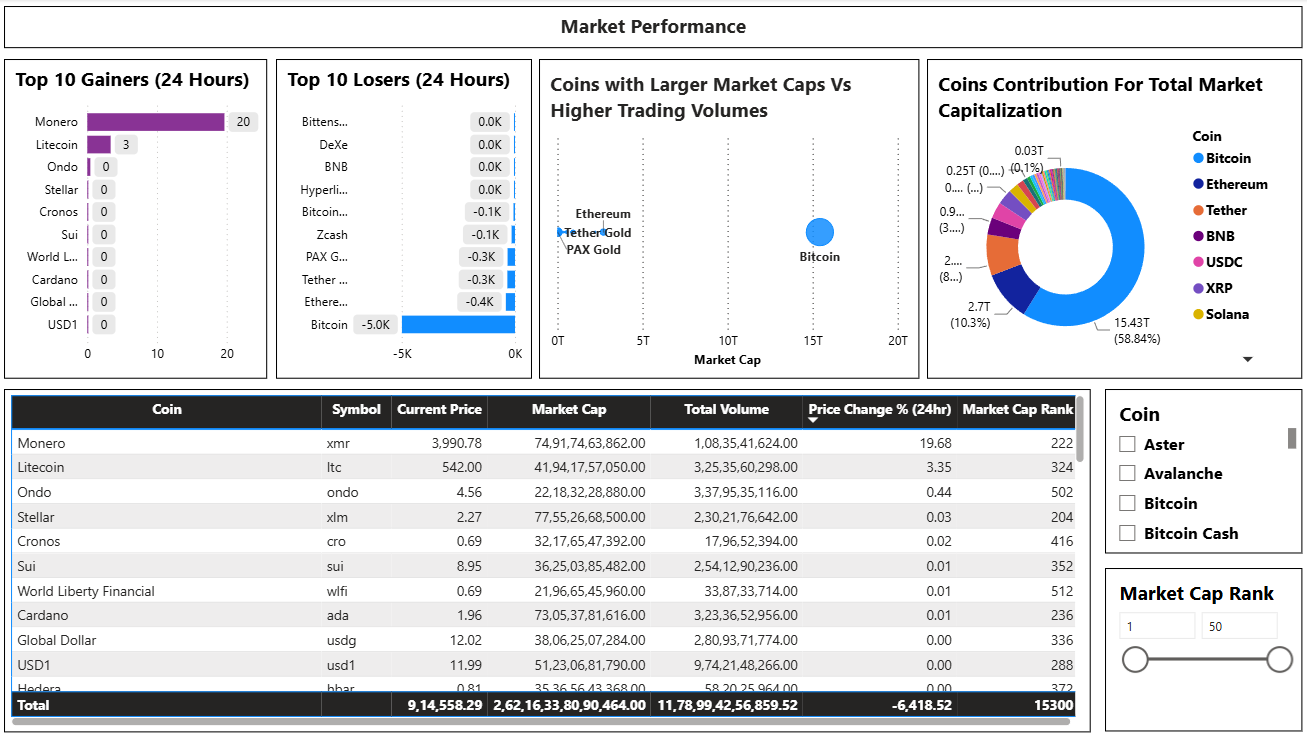

What the dashboard file says about the page in this screenshot:
{"tool":"powerbi","page":{"name":"Market Performance","canvas":[1280,720],"ordinal":1},"visuals":[{"type":"textbox","box":[9.9,6.9,1263.2,40.6],"z":0},{"type":"clusteredBarChart","title":"Top 10 Gainers (24 Hours)","fields":{"Category":["crypto dim_coin.coin_name"],"Y":["Sum(crypto fact_market_snapshot.price_change_24h)"]},"box":[9.9,58.4,256.4,310.8],"z":1000},{"type":"clusteredBarChart","title":"Top 10 Losers (24 Hours)","fields":{"Category":["crypto dim_coin.coin_name"],"Y":["Sum(crypto fact_market_snapshot.price_change_24h)"]},"box":[274.2,58.4,249.5,310.8],"z":2000},{"type":"scatterChart","title":"Coins with Larger Market Caps Vs Higher Trading Volumes","fields":{"Category":["crypto dim_coin.coin_name"],"X":["Sum(crypto fact_market_snapshot.market_cap)"],"Size":["Sum(crypto fact_market_snapshot.current_price)"]},"box":[530.1,58.2,369.9,310.7],"z":3000},{"type":"donutChart","title":"Coins Contribution For Total Market Capitalization","fields":{"Y":["Sum(crypto fact_market_snapshot.market_cap)"],"Category":["crypto dim_coin.coin_name"]},"box":[907.8,58.4,365.3,310.8],"z":4000},{"type":"tableEx","fields":{"Values":["crypto dim_coin.coin_name","crypto dim_coin.symbol","Sum(crypto fact_market_snapshot.current_price)","Sum(crypto fact_market_snapshot.market_cap)","crypto etl_audit.Total Volume","Sum(crypto fact_market_snapshot.price_change_24h)","Sum(crypto fact_market_snapshot.market_cap_rank)"]},"box":[9.9,379.1,1057.3,333.6],"z":5000},{"type":"slicer","fields":{"Values":["crypto dim_coin.coin_name"]},"box":[1081,379.1,192,160.4],"z":6000},{"type":"slicer","fields":{"Values":["crypto fact_market_snapshot.market_cap_rank"]},"box":[1081,553.4,192,159.4],"z":7000}]}

Visuals, with their boxes in screenshot pixels (x1, y1, x2, y2), scaled from the page's 1280x720 canvas onto the 1307x735 screenshot:
textbox: 10/7/1300/48
"Top 10 Gainers (24 Hours)" clusteredBarChart: 10/60/272/377
"Top 10 Losers (24 Hours)" clusteredBarChart: 280/60/535/377
"Coins with Larger Market Caps Vs Higher Trading Volumes" scatterChart: 541/59/919/377
"Coins Contribution For Total Market Capitalization" donutChart: 927/60/1300/377
tableEx - crypto dim_coin.coin_name x crypto dim_coin.symbol: 10/387/1090/728
slicer - crypto dim_coin.coin_name: 1104/387/1300/551
slicer - crypto fact_market_snapshot.market_cap_rank: 1104/565/1300/728
